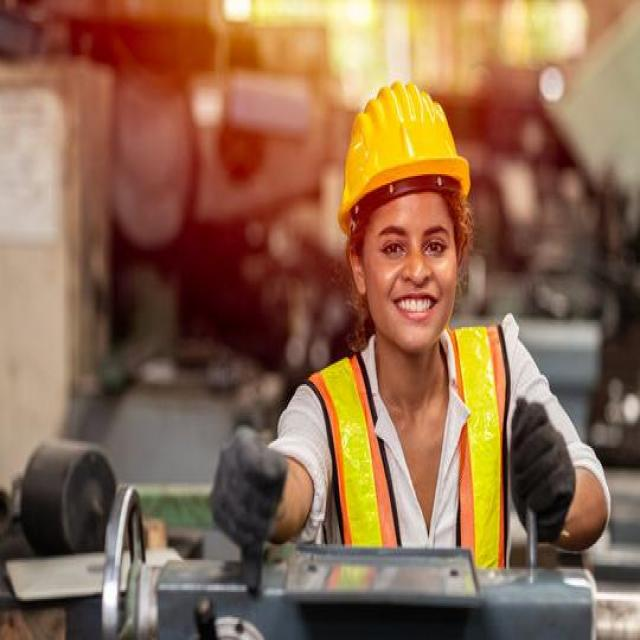Reflective-Jacket: (297, 318, 524, 585)
Safety-Helmet: (333, 75, 478, 222)
